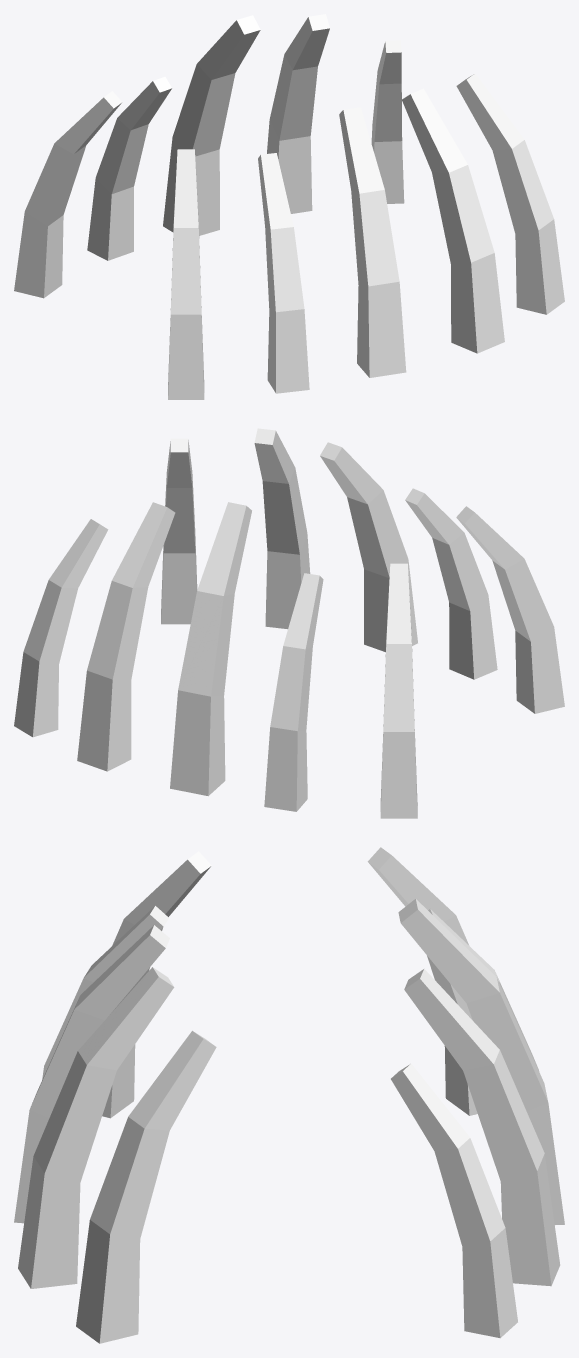
Rendered from Fish Bone 3.fbx.
The picture shows the model from 3 angles, top to bottom: view 1: azimuth 30°, elevation 25°; view 2: azimuth 150°, elevation 25°; view 3: azimuth 270°, elevation 25°; orthographic projection. The views are drawn at different scales.
Parts seen in each view (by area): view 1: Box003; view 2: Box003; view 3: Box003.
Part boxes in pixels (x1=…): Box003: x1=14, y1=14, x2=564, y2=399; Box003: x1=14, y1=428, x2=564, y2=818; Box003: x1=14, y1=847, x2=564, y2=1343.
Size of the model in its own units: 252 by 145 by 231.
1 material, 1 textured.
